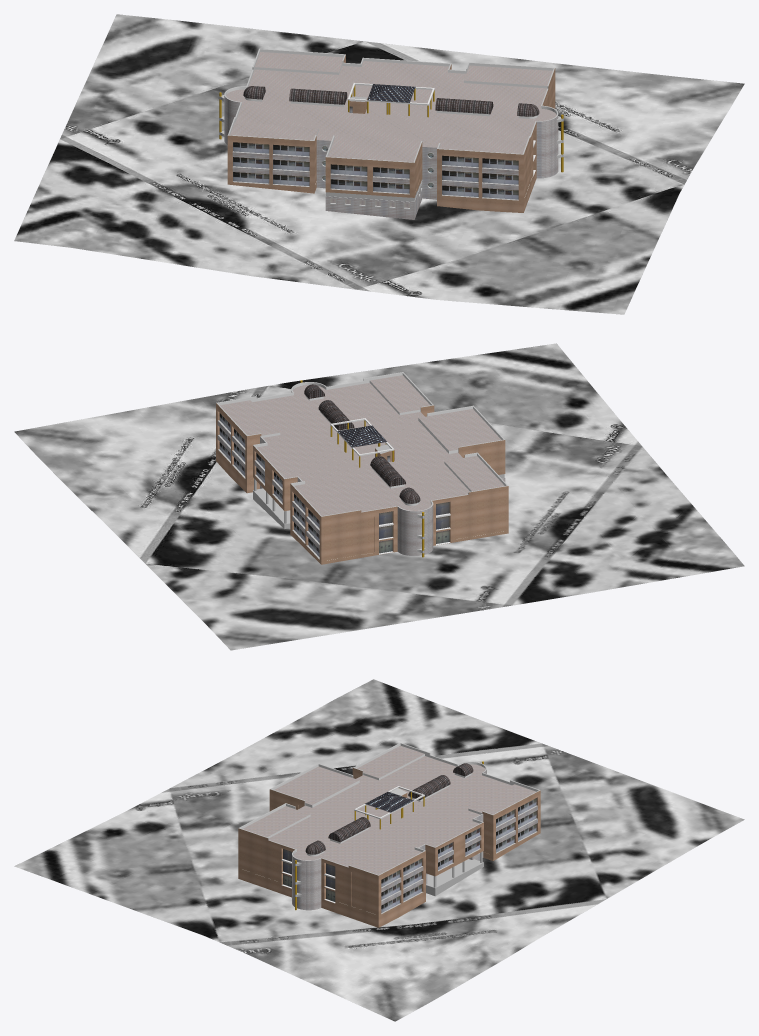
3 renders of one model, top to bottom at view 1: azimuth 30°, elevation 25°; view 2: azimuth 150°, elevation 25°; view 3: azimuth 270°, elevation 25°, orthographic. The views are drawn at different scales.
Parts seen in each view (by area): view 1: Google_Earth_Terrain, Model; view 2: Google_Earth_Terrain, Model; view 3: Google_Earth_Terrain, Model.
Part boxes in pixels (x1=…): Google_Earth_Terrain: x1=14, y1=14, x2=744, y2=314; Model: x1=219, y1=48, x2=563, y2=219; Google_Earth_Terrain: x1=14, y1=343, x2=744, y2=650; Model: x1=216, y1=372, x2=508, y2=564; Google_Earth_Terrain: x1=14, y1=679, x2=744, y2=1021; Model: x1=238, y1=742, x2=540, y2=927.
Size of the model in its own units: 21450 by 2395 by 21104.
